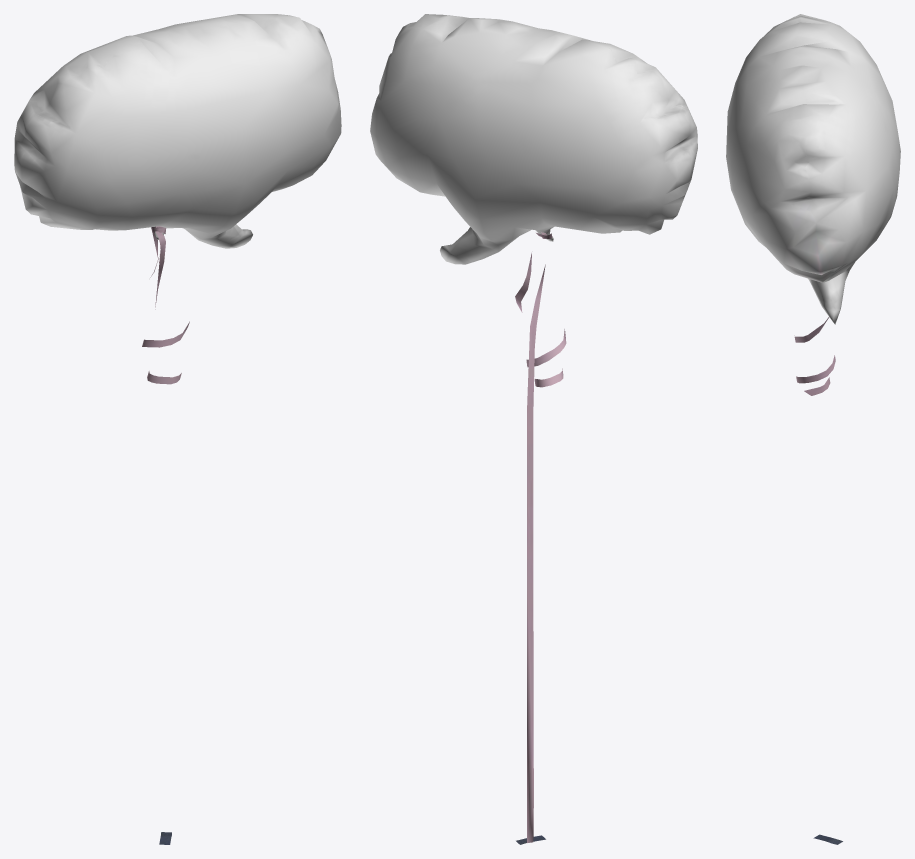
File: speechbubble_balloon.deployed.glb
The picture shows the model from 3 angles, left to right: view 1: azimuth 30°, elevation 25°; view 2: azimuth 150°, elevation 25°; view 3: azimuth 270°, elevation 25°; orthographic projection. The views are drawn at different scales.
Parts seen in each view (by area): view 1: speechbubble_balloon_LOD0; view 2: speechbubble_balloon_LOD0; view 3: speechbubble_balloon_LOD0.
Part boxes in pixels (left/top/right/bottom): speechbubble_balloon_LOD0: left=14, top=14, right=341, bottom=844; speechbubble_balloon_LOD0: left=370, top=14, right=697, bottom=844; speechbubble_balloon_LOD0: left=726, top=14, right=900, bottom=844.
Size of the model in its own units: 0.9033 by 2.19 by 0.44.
1 material, 1 textured.
